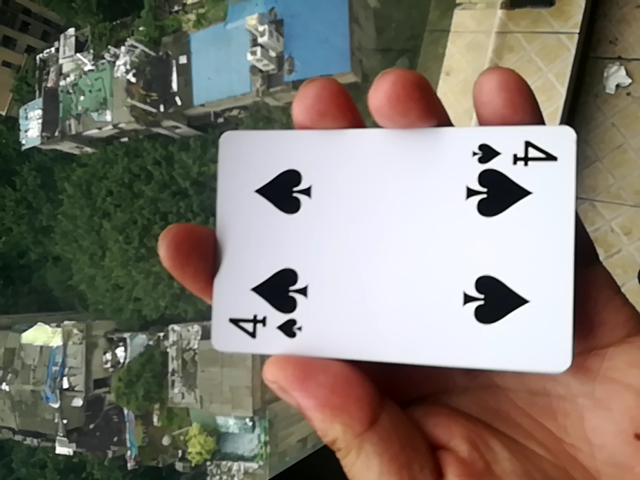ht 4: (197, 122, 576, 377)
